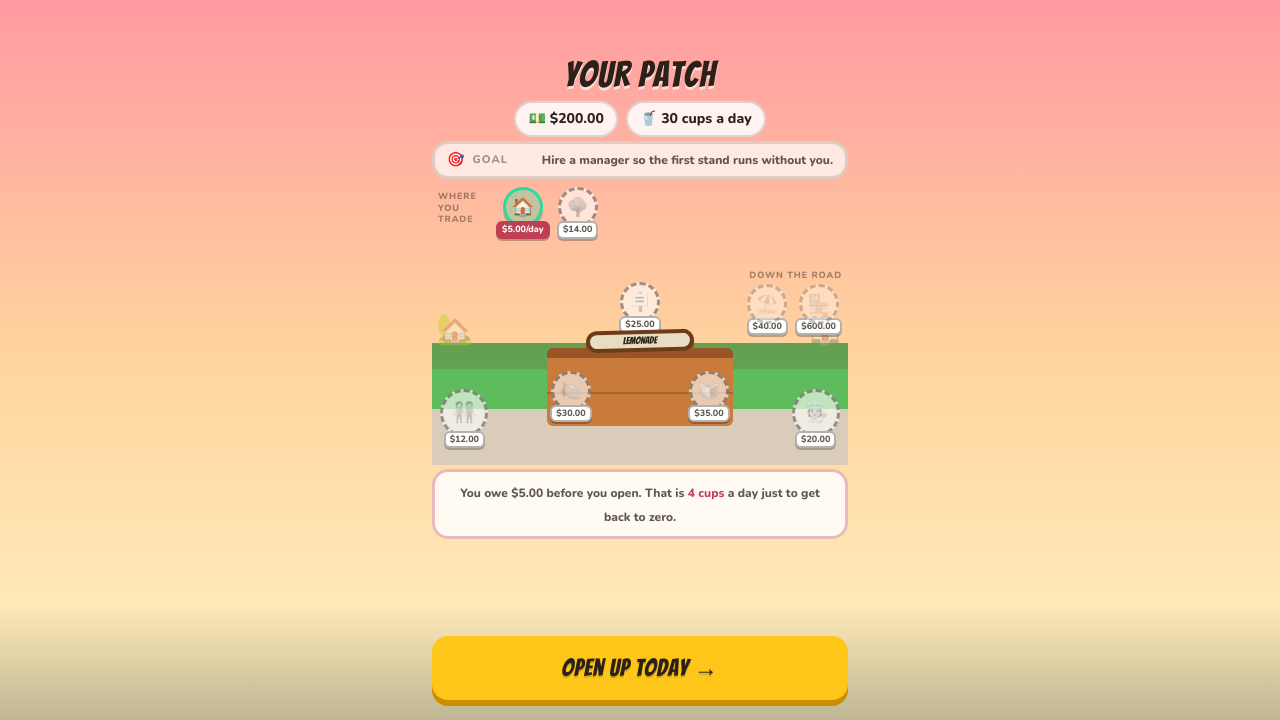
buying something in Act 2 › warns before the money moves when the queue is shorter than the stand
The image size is (1280, 720).
Click the button named "Ice cooler" at (709, 396), box [687, 371, 731, 422]
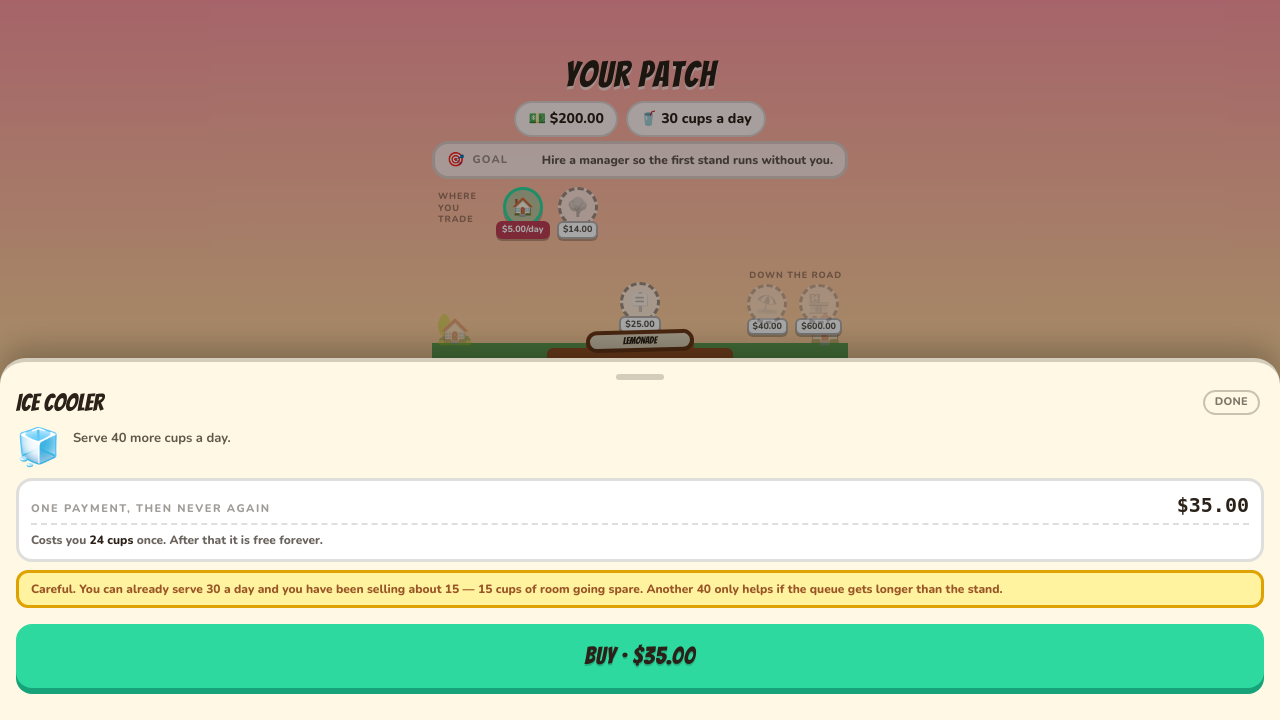
Expected: the text "room going spare" is shown, [522, 580, 697, 596]
